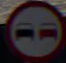No overtake: (3, 2, 60, 52)
